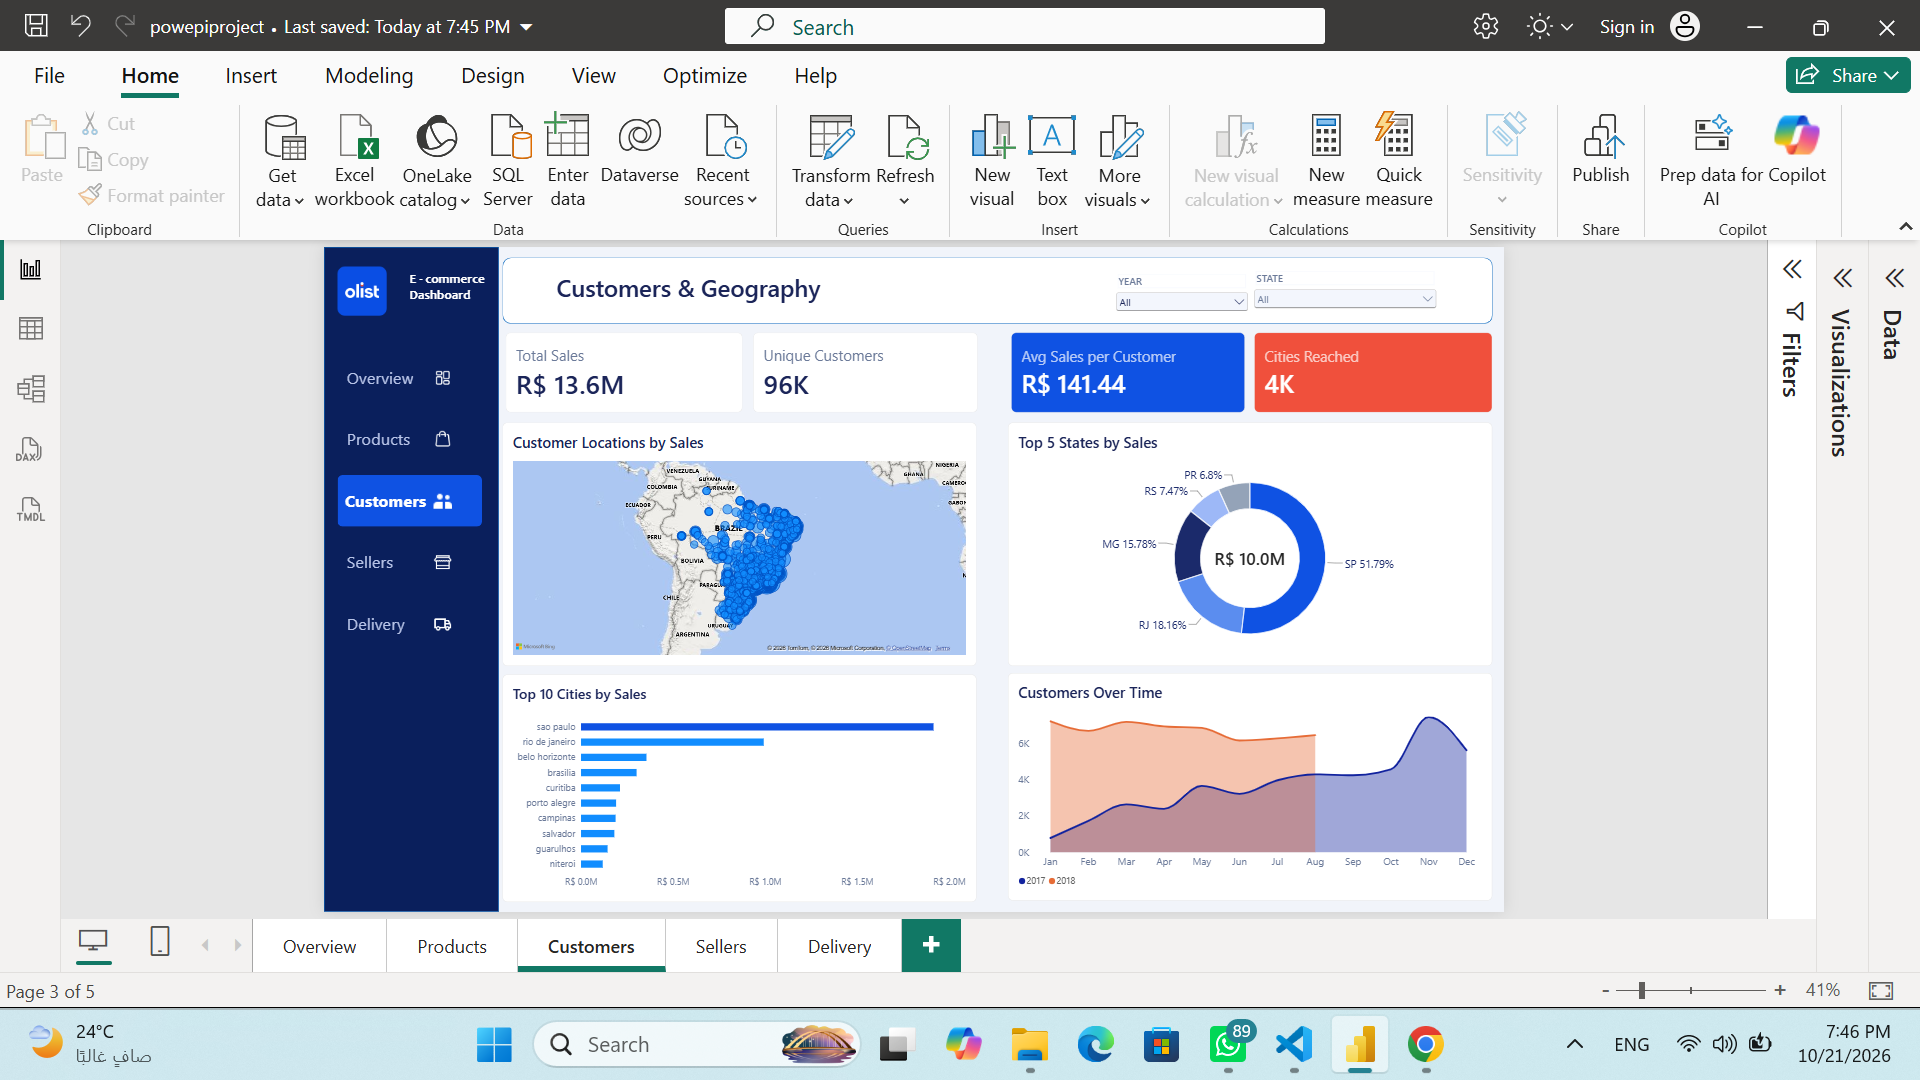

This screenshot's page, from the dashboard's own definition file:
{"tool":"powerbi","page":{"name":"Customers","canvas":[1920,1080],"ordinal":2},"visuals":[{"type":"clusteredBarChart","title":"Top 10 Cities by Sales","fields":{"Category":["DIM_CUSTOMER.CITY"],"Y":["_Measures.Total Sales"]},"box":[291.1,694.3,770.7,370],"z":0},{"type":"shape","box":[0,0,284,1080.8],"z":1000},{"type":"image","box":[22.3,31.8,80,80],"z":2000},{"type":"textbox","title":"E - commerce Dashboard","box":[139.8,39.7,176.6,62],"z":3000},{"type":"donutChart","title":"Top 5 States by Sales","fields":{"Category":["DIM_CUSTOMER.STATE"],"Y":["_Measures.Total Sales"]},"box":[1111.8,286.3,787.4,396.1],"z":4000},{"type":"areaChart","title":"Customers Over Time","fields":{"Category":["DIM_DATE.MONTH_NAME"],"Series":["DIM_DATE.YEAR"],"Y":["_Measures.Active Customers"]},"box":[1113.3,693.3,787.4,369.8],"z":5000},{"type":"shape","box":[289.1,17,1610.1,107.7],"z":6000},{"type":"textbox","title":"Customers & Geography","box":[377.8,38.9,500,61.1],"z":7000},{"type":"slicer","fields":{"Values":["DIM_DATE.YEAR"]},"box":[1284,44,224,60],"z":8000},{"type":"slicer","fields":{"Values":["DIM_CUSTOMER.STATE"]},"box":[1508,40,306.1,79.4],"z":9000},{"type":"map","title":"Customer Locations by Sales","fields":{"Size":["_Measures.Total Sales"],"X":["DIM_CUSTOMER.LNG"],"Y":["DIM_CUSTOMER.LAT"]},"box":[291.1,286.3,770.7,396.1],"z":10000},{"type":"pageNavigator","box":[22.7,170,235.3,484.7],"z":11000},{"type":"image","box":[170,198,44,30],"z":12000},{"type":"image","box":[170,298,44,30],"z":13000},{"type":"image","box":[170,398,44,30],"z":14000},{"type":"image","box":[170,498,44,30],"z":15000},{"type":"image","box":[170,598,44,30],"z":16000},{"type":"cardVisual","fields":{"Data":["_Measures.Unique Customers"]},"box":[692.5,138,370,130],"z":17000},{"type":"cardVisual","fields":{"Data":["_Measures.Avg Sales per Customer"]},"box":[1112.5,138,385,130],"z":18000},{"type":"cardVisual","fields":{"Data":["_Measures.Cities Reached"]},"box":[1507.5,138,392.5,130],"z":19000},{"type":"cardVisual","fields":{"Data":["_Measures.Total Sales"]},"box":[289.1,138.9,390,130],"z":20000}]}

Visuals, with their boxes on the page's 1920x1080 design canvas (x1, y1, x2, y2). These are canvas units, not pixel positions in the 1920x1080 screenshot, which may show the page scaled, cropped or inside an application window:
"Top 10 Cities by Sales" clusteredBarChart: [291, 694, 1062, 1064]
shape: [0, 0, 284, 1081]
image: [22, 32, 102, 112]
"E - commerce Dashboard" textbox: [140, 40, 316, 102]
"Top 5 States by Sales" donutChart: [1112, 286, 1899, 682]
"Customers Over Time" areaChart: [1113, 693, 1901, 1063]
shape: [289, 17, 1899, 125]
"Customers & Geography" textbox: [378, 39, 878, 100]
slicer - DIM_DATE.YEAR: [1284, 44, 1508, 104]
slicer - DIM_CUSTOMER.STATE: [1508, 40, 1814, 119]
"Customer Locations by Sales" map: [291, 286, 1062, 682]
pageNavigator: [23, 170, 258, 655]
image: [170, 198, 214, 228]
image: [170, 298, 214, 328]
image: [170, 398, 214, 428]
image: [170, 498, 214, 528]
image: [170, 598, 214, 628]
cardVisual - _Measures.Unique Customers: [692, 138, 1062, 268]
cardVisual - _Measures.Avg Sales per Customer: [1112, 138, 1498, 268]
cardVisual - _Measures.Cities Reached: [1508, 138, 1900, 268]
cardVisual - _Measures.Total Sales: [289, 139, 679, 269]
